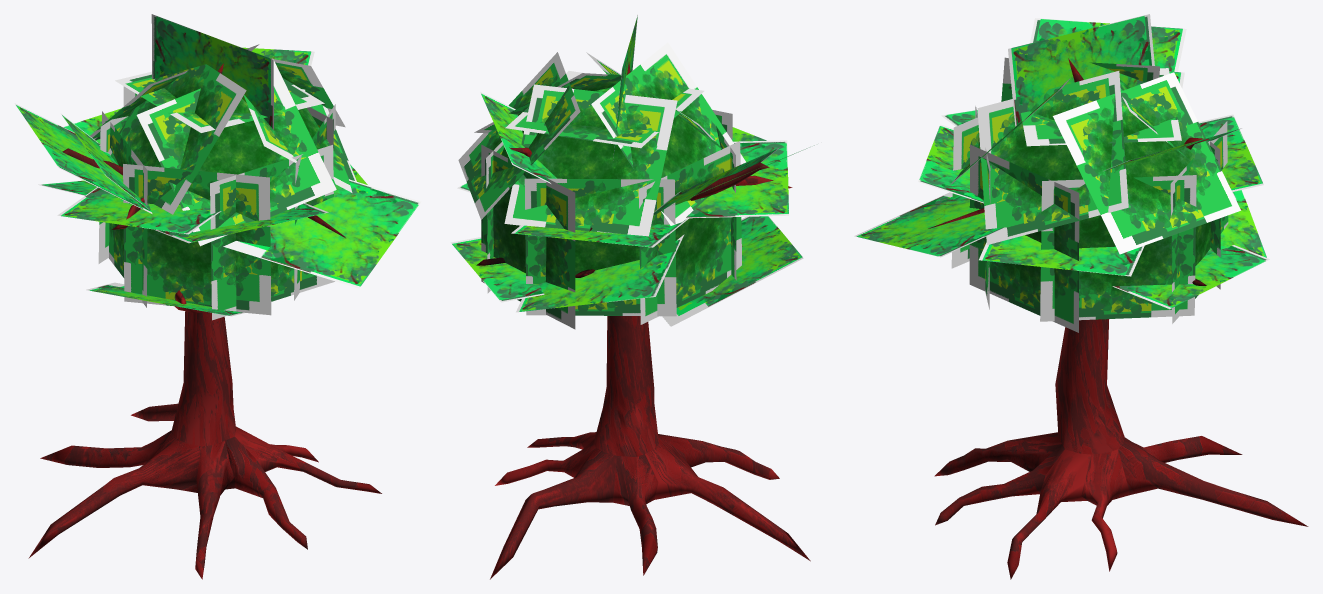
File: tree.fbx
The picture shows the model from 3 angles, left to right: view 1: azimuth 30°, elevation 25°; view 2: azimuth 150°, elevation 25°; view 3: azimuth 270°, elevation 25°; orthographic projection. The views are drawn at different scales.
Parts seen in each view (by area): view 1: tree; view 2: tree; view 3: tree.
Part boxes in pixels (x1,y1,x2,y2): tree: (14, 14, 421, 579); tree: (450, 15, 814, 579); tree: (854, 14, 1308, 579).
Size of the model in its own units: 1.35 by 1.84 by 1.53.
